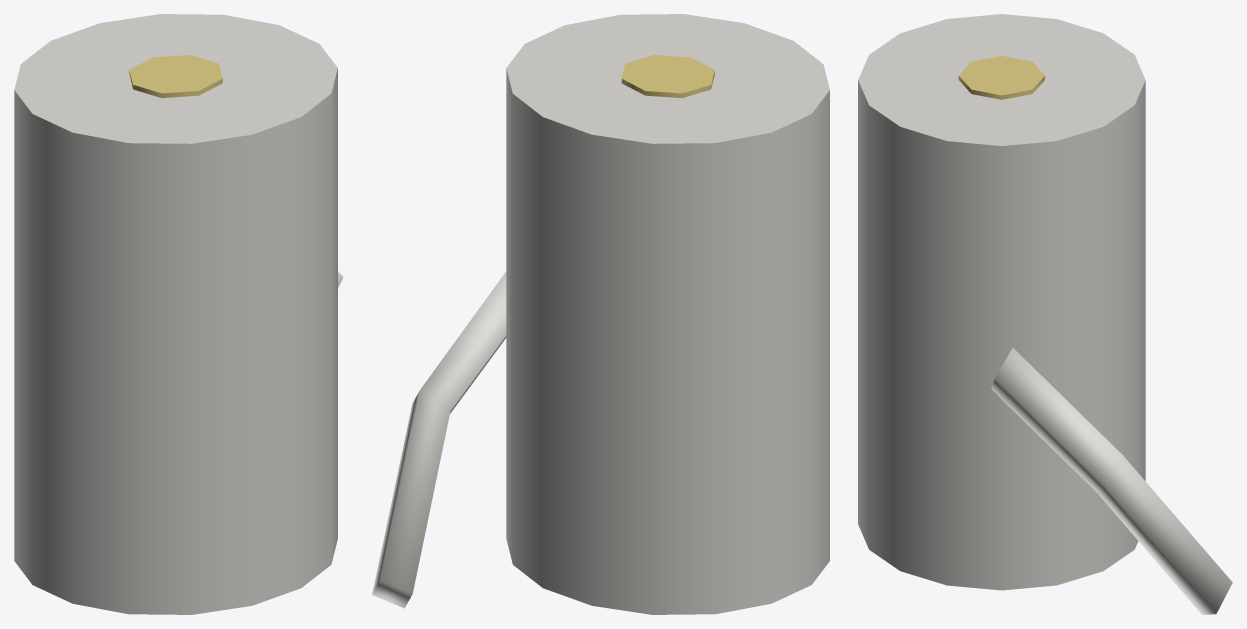
Rendered from bandage_roll.glb.
3 renders of one model, left to right at view 1: azimuth 30°, elevation 25°; view 2: azimuth 150°, elevation 25°; view 3: azimuth 270°, elevation 25°, orthographic. The views are drawn at different scales.
Visible parts, largest first — view 1: bandage_roll; view 2: bandage_roll; view 3: bandage_roll.
Boxes of the visible parts, box(x1,y1,x2,y2) form: bandage_roll: box(14, 14, 343, 614); bandage_roll: box(372, 14, 829, 614); bandage_roll: box(858, 14, 1232, 614).
Size of what is drawn, in the model's own units: 0.08 by 0.11 by 0.08.
